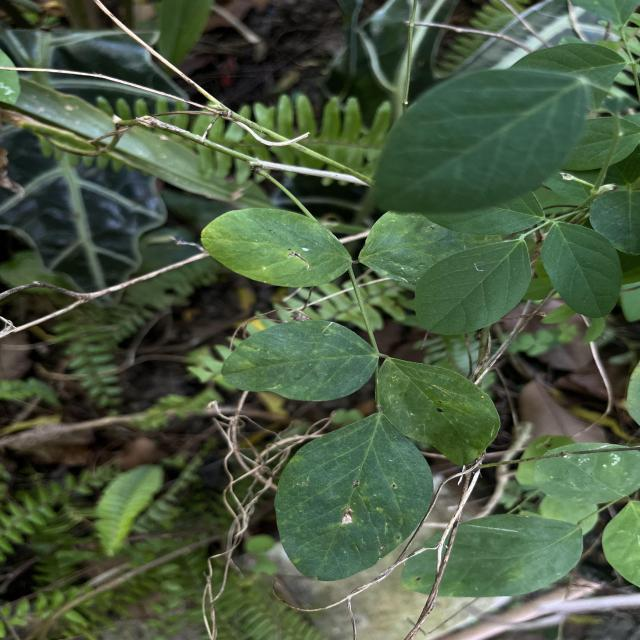Clitoria ternatea: (272, 411, 435, 582), (373, 356, 502, 467), (220, 319, 380, 403), (199, 206, 353, 288), (413, 238, 533, 336), (540, 221, 624, 319)
